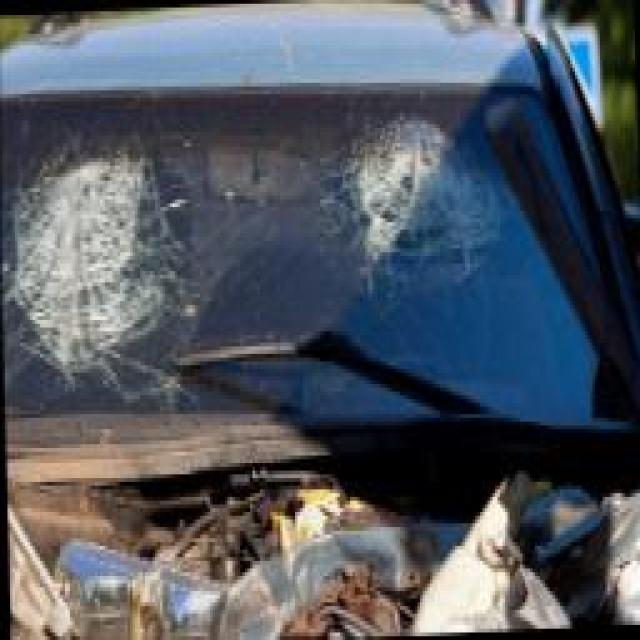Windshield: (0, 60, 640, 474)
